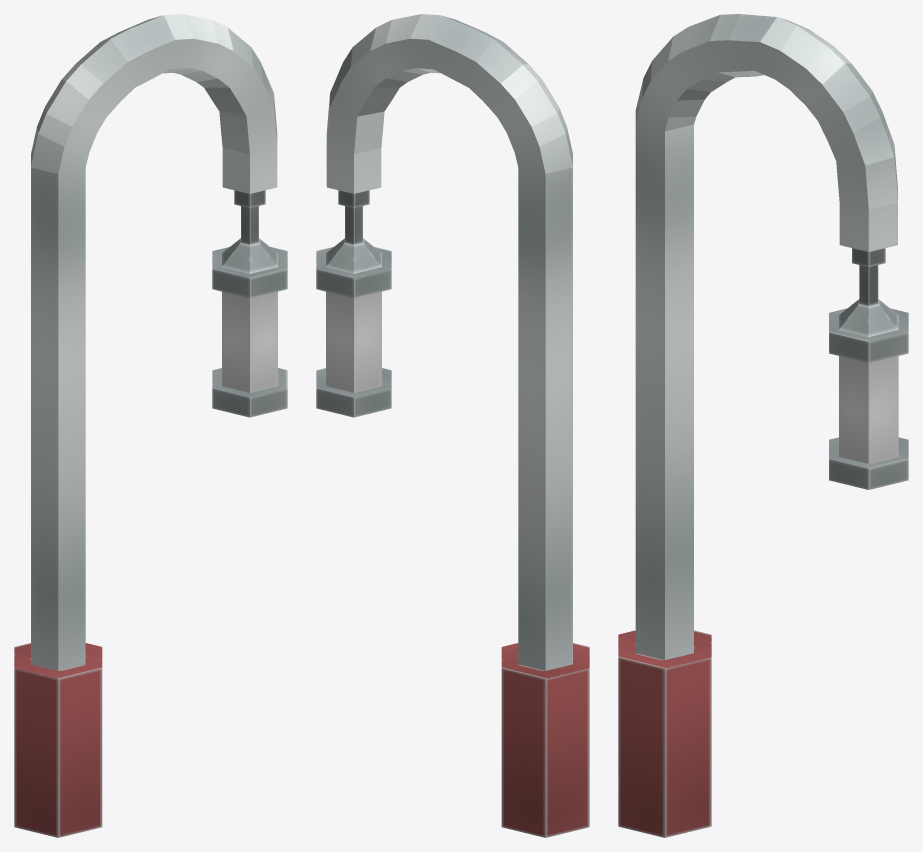
The model's file is Lampost.fbx.
3 views of the same model, side by side, from view 1: azimuth 30°, elevation 25°; view 2: azimuth 150°, elevation 25°; view 3: azimuth 330°, elevation 25° (orthographic). The views are drawn at different scales.
Visible parts, largest first — view 1: LampostObj; view 2: LampostObj; view 3: LampostObj.
Part boxes in pixels (x1,y1,x2,y2): LampostObj: (14, 14, 287, 837); LampostObj: (316, 14, 589, 837); LampostObj: (618, 14, 908, 837).
Bounding box in the file's own units: 89.86 × 244 × 25.
Materials: 1 (1 with a texture image).
